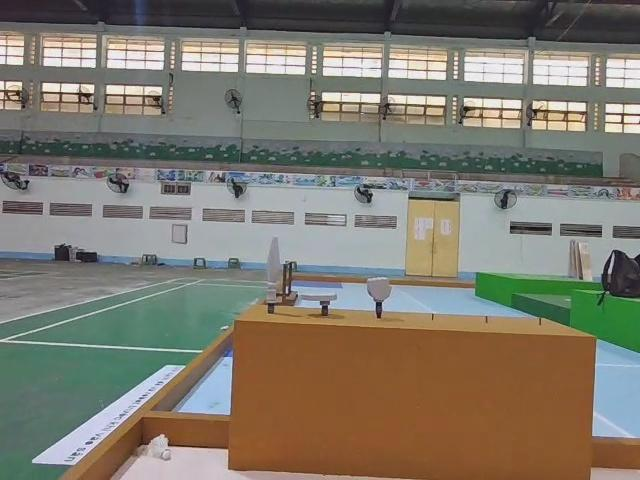Fist: (367, 275, 393, 317)
Hand: (301, 288, 344, 318)
Sph: (263, 235, 282, 317)
